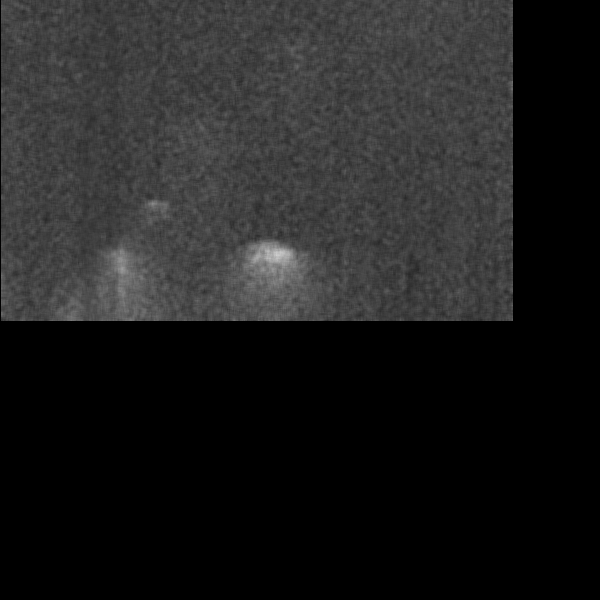spark: (238, 240, 314, 297), (105, 248, 138, 285), (140, 193, 170, 221)
